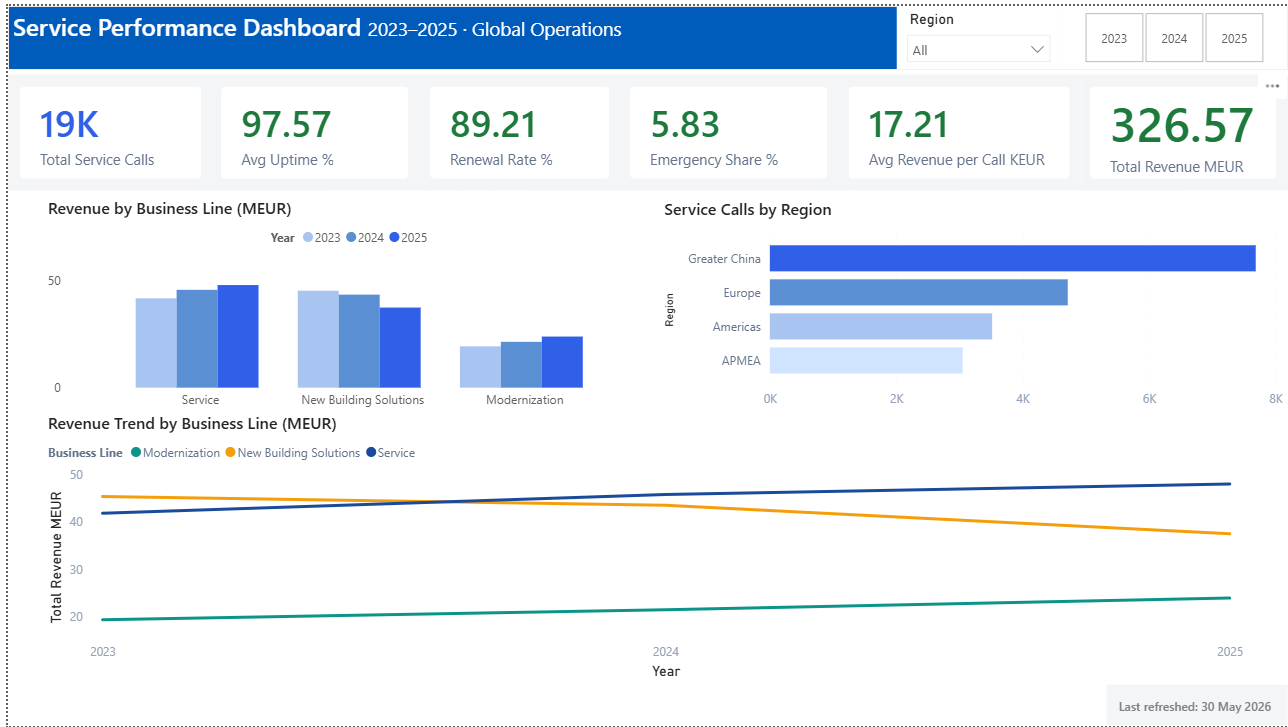

The dashboard page shown, as its layout file describes it:
{"tool":"powerbi","page":{"name":"Executive Overview","canvas":[1280,720],"ordinal":0},"visuals":[{"type":"cardVisual","fields":{"Data":["_Measures.Total Service Calls"]},"box":[0,63.3,205,126.7],"z":0},{"type":"cardVisual","fields":{"Data":["_Measures.Avg Uptime %"]},"box":[201.7,63.3,211.7,126.7],"z":1000},{"type":"cardVisual","fields":{"Data":["_Measures.Renewal Rate %"]},"box":[410,63.3,203.3,126.7],"z":2000},{"type":"cardVisual","fields":{"Data":["_Measures.Emergency Share %"]},"box":[610,63.3,221.7,126.7],"z":3000},{"type":"cardVisual","fields":{"Data":["_Measures.Total Revenue MEUR"]},"box":[1070,63.3,210,126.7],"z":4000},{"type":"clusteredColumnChart","title":"Revenue by Business Line (MEUR)","fields":{"Category":["monthly_revenue.business_line"],"Series":["monthly_revenue.year"],"Y":["_Measures.Total Revenue MEUR"]},"box":[35,190,616.7,231.7],"z":5000},{"type":"clusteredBarChart","title":"Service Calls by Region","fields":{"Category":["service_calls.region"],"Y":["_Measures.Total Service Calls"]},"box":[651.7,191.7,628.3,230],"z":6000},{"type":"lineChart","title":"Revenue Trend by Business Line (MEUR)","fields":{"Y":["_Measures.Total Revenue MEUR"],"Series":["monthly_revenue.business_line"],"Category":["monthly_revenue.month_date.Variation.Date Hierarchy.Year"]},"box":[35,405,1205,273.3],"z":7000},{"type":"textbox","box":[0,0,1280,63.3],"z":8000},{"type":"cardVisual","fields":{"Data":["New Measure.Avg Revenue per Call KEUR"]},"box":[828.3,63.3,245,126.7],"z":9000},{"type":"cardVisual","fields":{"Data":["New Measure.Last Refreshed"]},"box":[1098.3,678.3,181.7,41.7],"z":10000},{"type":"slicer","fields":{"Values":["DateTable.Year"]},"box":[1051.7,0,228.3,63.3],"z":11000},{"type":"slicer","fields":{"Values":["service_calls.Region"]},"box":[888.3,0,163.3,63.3],"z":12000}]}

Visuals, with their boxes in screenshot pixels (x1, y1, x2, y2), scaled from the page's 1280x720 canvas onto the 1288x727 screenshot:
cardVisual - _Measures.Total Service Calls: Rect(0, 64, 206, 192)
cardVisual - _Measures.Avg Uptime %: Rect(203, 64, 416, 192)
cardVisual - _Measures.Renewal Rate %: Rect(413, 64, 617, 192)
cardVisual - _Measures.Emergency Share %: Rect(614, 64, 837, 192)
cardVisual - _Measures.Total Revenue MEUR: Rect(1077, 64, 1287, 192)
"Revenue by Business Line (MEUR)" clusteredColumnChart: Rect(35, 192, 656, 426)
"Service Calls by Region" clusteredBarChart: Rect(656, 194, 1287, 426)
"Revenue Trend by Business Line (MEUR)" lineChart: Rect(35, 409, 1248, 685)
textbox: Rect(0, 0, 1287, 64)
cardVisual - New Measure.Avg Revenue per Call KEUR: Rect(833, 64, 1080, 192)
cardVisual - New Measure.Last Refreshed: Rect(1105, 685, 1287, 726)
slicer - DateTable.Year: Rect(1058, 0, 1287, 64)
slicer - service_calls.Region: Rect(894, 0, 1058, 64)
